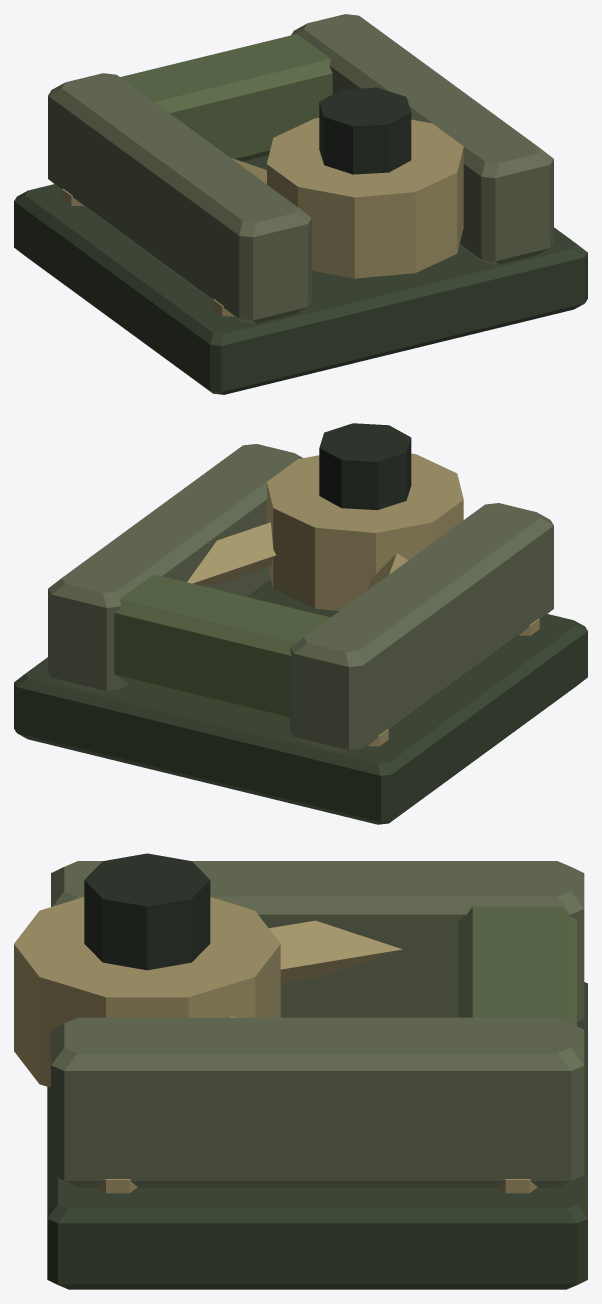
Rendered from reinforced_hitch.obj.
3 views of the same model, one above another, from view 1: azimuth 30°, elevation 25°; view 2: azimuth 150°, elevation 25°; view 3: azimuth 270°, elevation 25° (orthographic). The views are drawn at different scales.
Visible parts, largest first — view 1: BASE.008; view 2: BASE.008; view 3: BASE.008.
Part boxes in pixels (<box>): BASE.008: <box>14,14,587,394</box>; BASE.008: <box>14,423,587,824</box>; BASE.008: <box>14,853,587,1289</box>.
Size of the model in its own units: 0.78 by 0.435 by 0.775.
1 material, 1 textured.
